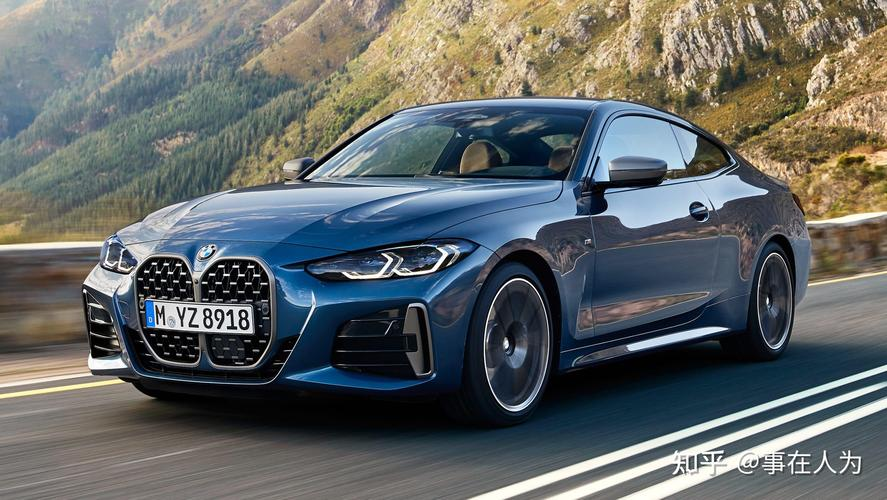汽车: (75, 98, 817, 428)
